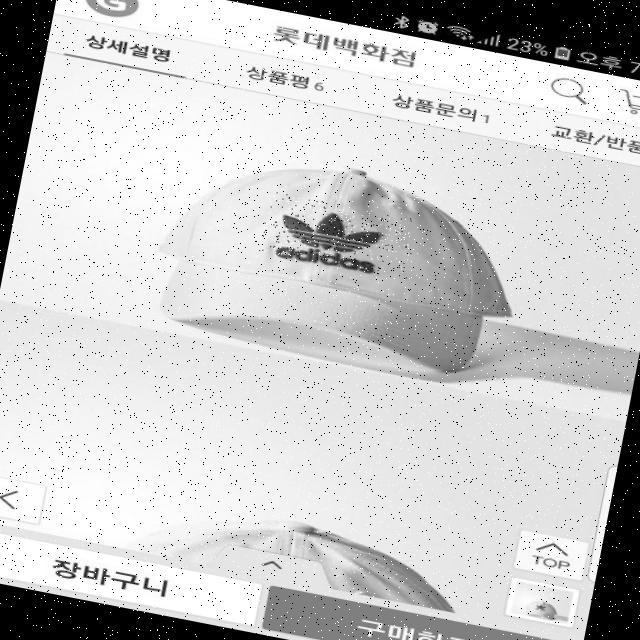Adidas: (259, 191, 418, 280)
